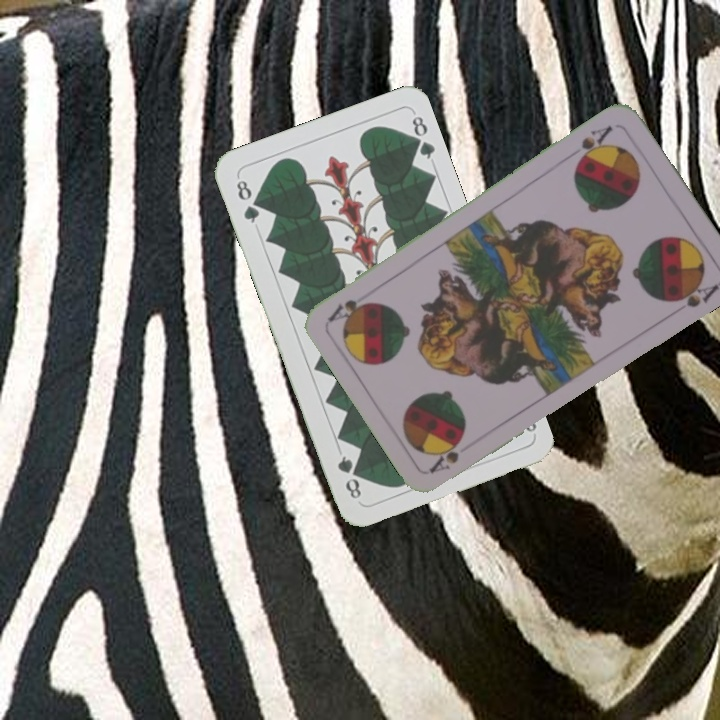G8: (232, 173, 262, 226)
SA: (572, 121, 616, 167), (425, 432, 467, 476)
